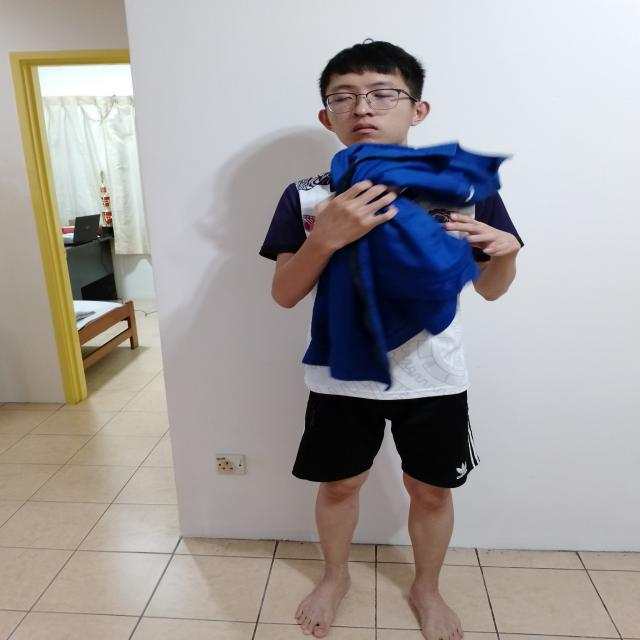person_without_labcoat: (261, 42, 522, 633)
